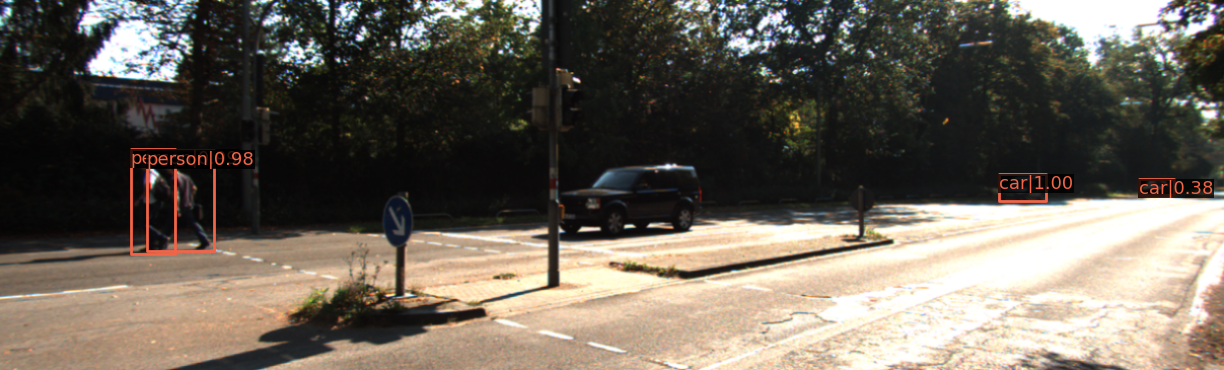car: (999, 177, 1047, 204)
person: (159, 157, 210, 252), (132, 153, 174, 254)
